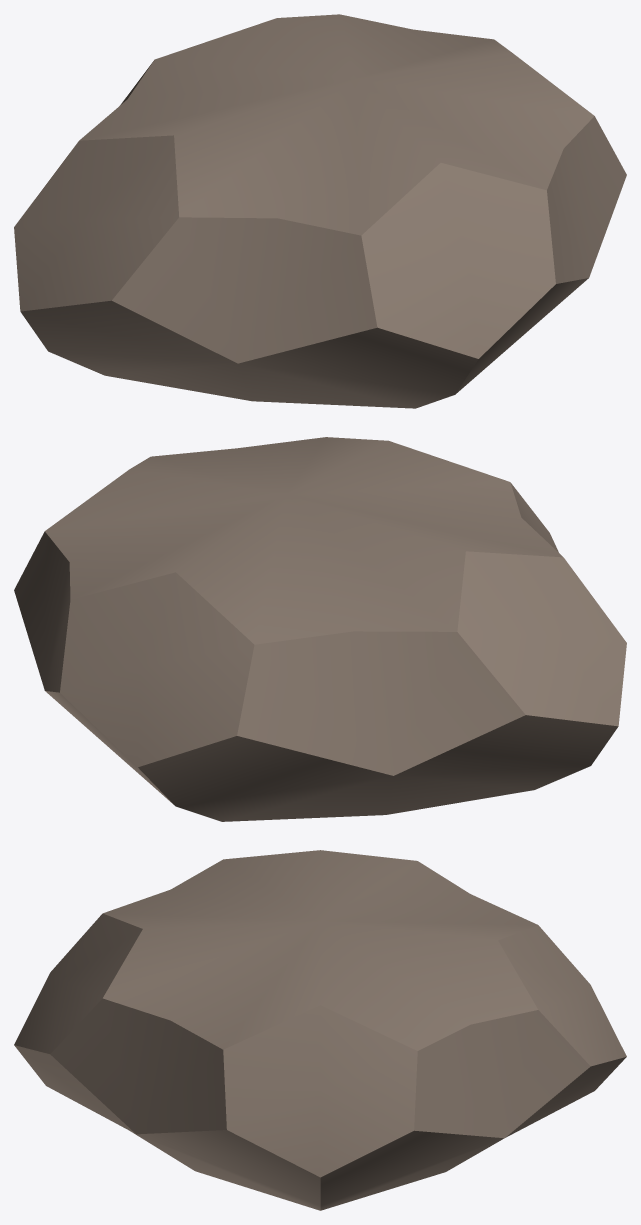
File: C_Rock_3.fbx
3 renders of one model, top to bottom at view 1: azimuth 30°, elevation 25°; view 2: azimuth 150°, elevation 25°; view 3: azimuth 270°, elevation 25°, orthographic. The views are drawn at different scales.
Parts seen in each view (by area): view 1: rock.005; view 2: rock.005; view 3: rock.005.
Part boxes in pixels (x1,y1,x2,y2): rock.005: (14, 14, 626, 408); rock.005: (14, 437, 626, 821); rock.005: (14, 850, 626, 1210).
Bounding box in the file's own units: 196 × 81.13 × 203.
